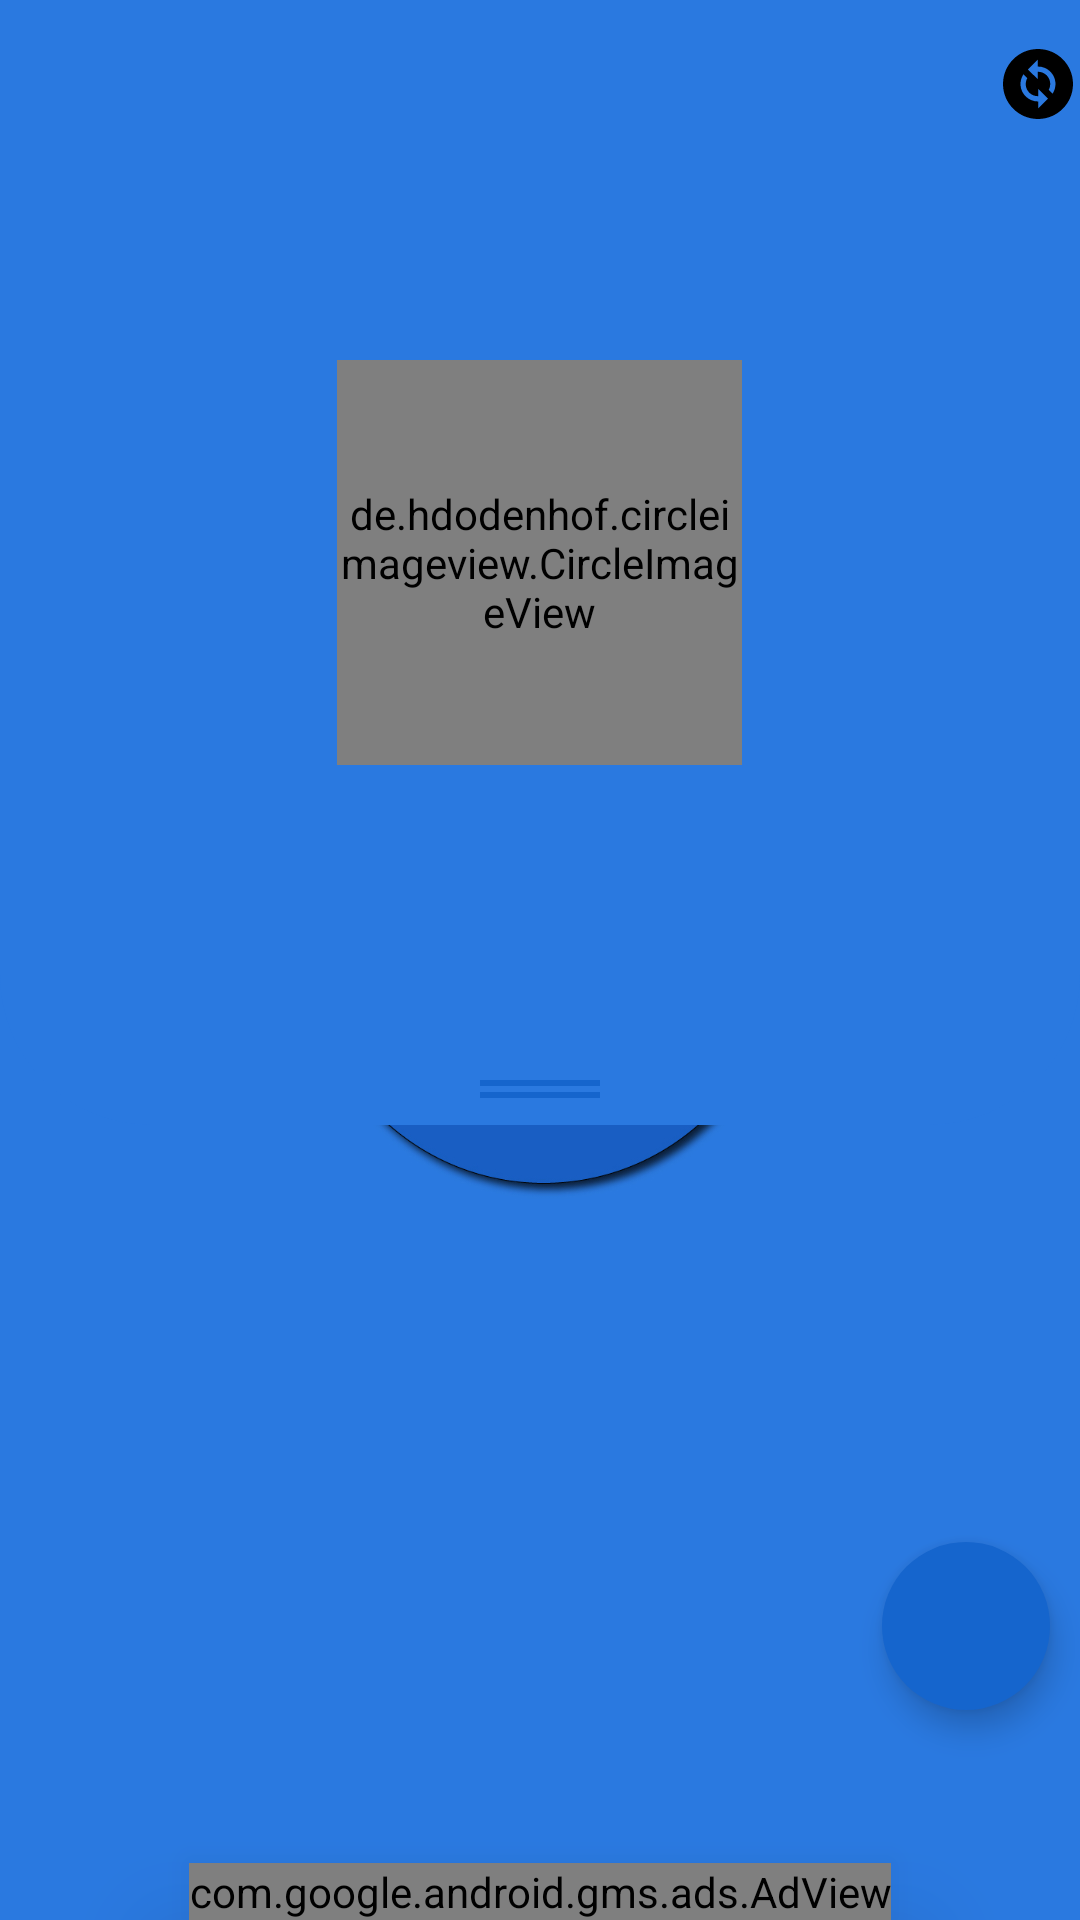

Icons on this 1080 × 1920 Android screen, each with the point to tap as [x,y]:
change circle: [1038,84]
